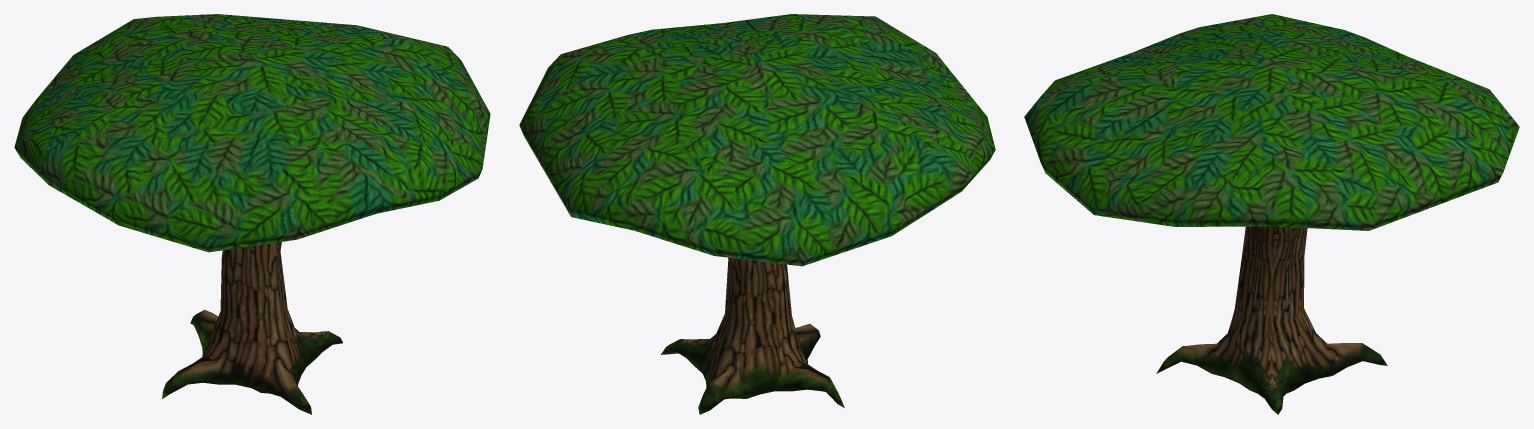
File: BigLeafTreeShape.dae
3 renders of one model, left to right at view 1: azimuth 30°, elevation 25°; view 2: azimuth 150°, elevation 25°; view 3: azimuth 270°, elevation 25°, orthographic.
Parts seen in each view (by area): view 1: BigLeafTree; view 2: BigLeafTree; view 3: BigLeafTree.
Boxes of the visible parts, x1,y1,x2,y2 form: BigLeafTree: (14, 14, 490, 414); BigLeafTree: (519, 14, 995, 414); BigLeafTree: (1024, 14, 1519, 414).
Bounding box in the file's own units: 49.65 × 36.21 × 51.51.
